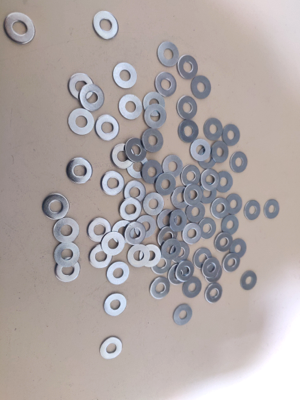circle: (4, 12, 35, 44), (43, 193, 70, 221), (93, 11, 119, 40), (68, 74, 95, 101), (68, 109, 95, 135), (67, 158, 93, 185), (79, 85, 104, 112), (54, 258, 81, 283), (95, 115, 120, 141), (54, 218, 80, 243), (113, 63, 137, 89), (54, 243, 80, 267), (119, 95, 143, 120), (111, 144, 135, 169), (101, 171, 125, 196), (88, 218, 112, 243), (101, 232, 126, 256), (89, 245, 113, 269), (144, 104, 167, 129), (155, 72, 177, 98), (126, 155, 149, 179), (106, 262, 129, 286), (125, 138, 147, 163), (112, 220, 134, 245), (100, 337, 123, 360), (104, 294, 127, 317), (124, 180, 147, 203), (120, 198, 143, 221), (158, 43, 180, 67), (143, 128, 164, 153), (155, 173, 177, 196), (125, 222, 147, 245), (128, 245, 150, 268), (140, 245, 162, 268), (144, 93, 165, 117), (191, 76, 212, 100), (178, 120, 199, 143), (162, 155, 183, 178), (142, 161, 163, 184), (143, 193, 164, 216), (135, 216, 156, 239), (178, 56, 198, 80), (171, 187, 192, 209), (157, 209, 178, 231), (161, 239, 182, 261), (177, 97, 197, 120), (150, 277, 170, 300), (191, 139, 211, 162), (204, 119, 224, 141), (158, 226, 178, 248), (183, 222, 202, 245), (186, 202, 206, 223), (151, 254, 172, 274), (222, 125, 241, 147), (201, 169, 220, 191), (198, 147, 217, 169), (174, 304, 193, 326), (184, 184, 203, 206), (198, 184, 218, 204), (183, 277, 202, 298), (211, 198, 230, 219), (214, 172, 233, 193), (193, 248, 212, 269), (182, 166, 201, 187), (171, 242, 190, 263), (176, 261, 195, 282), (169, 264, 188, 285), (170, 210, 187, 233), (222, 253, 241, 273), (198, 219, 217, 239), (211, 142, 229, 163), (205, 283, 223, 304), (229, 239, 247, 260), (231, 152, 248, 173), (222, 216, 239, 236), (226, 194, 242, 215), (245, 200, 261, 220), (241, 271, 257, 291), (265, 199, 280, 219)
